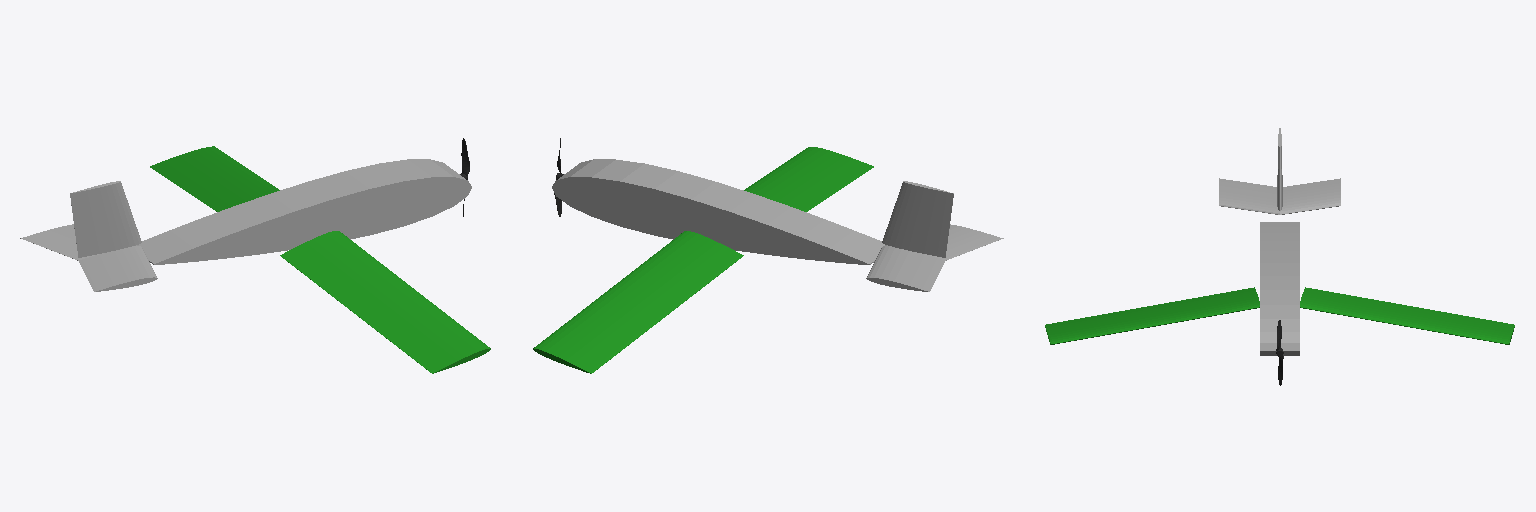
robot.urdf — drone_ea:
<robot name="drone_ea">
 <material name="grey">
  <color rgba="0.7 0.7 0.7 1" />
 </material>
 <material name="red">
  <color rgba="0.17254901960784313 0.6274509803921569 0.17254901960784313 1" />
 </material>
 <material name="black">
  <color rgba="0.2 0.2 0.2 1" />
 </material>
 <link name="root_link">
  <inertial>
   <origin rpy="0 0 0" xyz="0 0 0" />
   <mass value="0" />
   <inertia ixx="0" ixy="0" ixz="0" iyy="0" iyz="0" izz="0" />
  </inertial>
 </link>
 <joint name="fixed_joint_base_fuselage" type="fixed">
  <parent link="root_link" />
  <child link="fuselage" />
  <origin rpy="3.141592653589793 0 0" xyz="0 0 0" />
 </joint>
 <link name="fuselage">
  <inertial>
   <origin rpy="0 0 0" xyz="-0.344 0 0" />
   <mass value="0.55" />
   <inertia ixx="0.00029015955" ixy="0" ixz="0" iyy="0.0074080147" iyz="0" izz="0.0074511885" />
  </inertial>
  <visual>
   <origin rpy="0 0 0" xyz="0 0 0" />
   <geometry>
    <mesh filename="package://ros_muav/meshes/fuselage0014_tail0009.stl" scale="0.001 0.001 0.001" />
   </geometry>
   <material name="grey" />
  </visual>
 </link>
 <joint name="fixed_joint_aero_frame_fuselage" type="fixed">
  <parent link="fuselage" />
  <child link="aero_frame_fuselage" />
  <origin rpy="0 3.141592653589793 0" xyz="-0.344 0 0" />
 </joint>
 <link name="aero_frame_fuselage" />
 <joint name="fixed_joint_right_wing" type="fixed">
  <parent link="fuselage" />
  <child link="fuselage_right_0" />
  <origin rpy="-0.13962634015954636 -0.10471975511965977 3.036872898470133" xyz="-0.35 0.05 0.03" />
 </joint>
 <link name="fuselage_right_0">
  <inertial>
   <mass value="0.018" />
   <origin rpy="0 0 0" xyz="0 0 0" />
   <inertia ixx="2.1333333333333334e-06" ixy="0" ixz="0" iyy="2.1333333333333334e-06" iyz="0" izz="2.1333333333333334e-06" />
  </inertial>
 </link>
 <joint name="joint_0_twist_right_wing" type="revolute">
  <parent link="fuselage_right_0" />
  <child link="fuselage_right_1" />
  <origin rpy="0 0 0" xyz="0 0 0" />
  <axis xyz="0 1 0" />
  <limit effort="0.26" lower="-0.5235987755982988" upper="0.5235987755982988" velocity="5.393067388662478" />
  <dynamics damping="1" friction="0" />
 </joint>
 <link name="fuselage_right_1">
  <inertial>
   <mass value="0.082" />
   <origin rpy="0 0 0" xyz="0 0 0" />
   <inertia ixx="1.8041518518518523e-05" ixy="0" ixz="0" iyy="1.8041518518518523e-05" iyz="0" izz="1.8041518518518523e-05" />
  </inertial>
 </link>
 <joint name="joint_1_dihedral_right_wing" type="revolute">
  <parent link="fuselage_right_1" />
  <child link="fuselage_right_2" />
  <origin rpy="0 0 0" xyz="0 0 0" />
  <axis xyz="1 0 0" />
  <limit effort="1.7" lower="-0.5235987755982988" upper="0.5235987755982988" velocity="1.5707963267948966" />
  <dynamics damping="1" friction="0" />
 </joint>
 <link name="fuselage_right_2">
  <inertial>
   <mass value="0" />
   <origin rpy="0 0 0" xyz="0 0 0" />
   <inertia ixx="0" ixy="0" ixz="0" iyy="0" iyz="0" izz="0" />
  </inertial>
 </link>
 <joint name="joint_2_fixed_right_wing" type="fixed">
  <parent link="fuselage_right_2" />
  <child link="right_wing" />
  <origin rpy="0 0 0" xyz="0 0 0" />
  <axis xyz="0 0 0" />
 </joint>
 <link name="right_wing">
  <inertial>
   <origin rpy="0 0 0" xyz="0.025827498 -0.2625 0" />
   <mass value="0.021874659008620952" />
   <inertia ixx="0.0005026593079582453" ixy="0" ixz="0" iyy="2.7253501080910022e-05" iyz="0" izz="0.0005294613202088511" />
  </inertial>
  <visual>
   <origin rpy="0 0 0" xyz="0 0 0" />
   <geometry>
    <mesh filename="package://ros_muav/meshes/wing0009.stl" scale="0.15 0.525 0.15" />
   </geometry>
   <material name="red" />
  </visual>
 </link>
 <joint name="fixed_joint_aero_frame_right_wing" type="fixed">
  <parent link="right_wing" />
  <child link="aero_frame_right_wing" />
  <origin rpy="3.141592653589793 0 0" xyz="0.025827498 -0.2625 0" />
 </joint>
 <link name="aero_frame_right_wing" />
 <joint name="fixed_joint_left_wing" type="fixed">
  <parent link="fuselage" />
  <child link="fuselage_left_0" />
  <origin rpy="0.13962634015954636 3.246312408709453 0.10471975511965977" xyz="-0.35 -0.05 0.03" />
 </joint>
 <link name="fuselage_left_0">
  <inertial>
   <mass value="0.018" />
   <origin rpy="0 0 0" xyz="0 0 0" />
   <inertia ixx="2.1333333333333334e-06" ixy="0" ixz="0" iyy="2.1333333333333334e-06" iyz="0" izz="2.1333333333333334e-06" />
  </inertial>
 </link>
 <joint name="joint_0_twist_left_wing" type="revolute">
  <parent link="fuselage_left_0" />
  <child link="fuselage_left_1" />
  <origin rpy="0 0 0" xyz="0 0 0" />
  <axis xyz="0 -1 0" />
  <limit effort="0.26" lower="-0.5235987755982988" upper="0.5235987755982988" velocity="5.393067388662478" />
  <dynamics damping="1" friction="0" />
 </joint>
 <link name="fuselage_left_1">
  <inertial>
   <mass value="0.082" />
   <origin rpy="0 0 0" xyz="0 0 0" />
   <inertia ixx="1.8041518518518523e-05" ixy="0" ixz="0" iyy="1.8041518518518523e-05" iyz="0" izz="1.8041518518518523e-05" />
  </inertial>
 </link>
 <joint name="joint_1_dihedral_left_wing" type="revolute">
  <parent link="fuselage_left_1" />
  <child link="fuselage_left_2" />
  <origin rpy="0 0 0" xyz="0 0 0" />
  <axis xyz="-1 0 0" />
  <limit effort="1.7" lower="-0.5235987755982988" upper="0.5235987755982988" velocity="1.5707963267948966" />
  <dynamics damping="1" friction="0" />
 </joint>
 <link name="fuselage_left_2">
  <inertial>
   <mass value="0" />
   <origin rpy="0 0 0" xyz="0 0 0" />
   <inertia ixx="0" ixy="0" ixz="0" iyy="0" iyz="0" izz="0" />
  </inertial>
 </link>
 <joint name="joint_2_fixed_left_wing" type="fixed">
  <parent link="fuselage_left_2" />
  <child link="left_wing" />
  <origin rpy="0 0 0" xyz="0 0 0" />
  <axis xyz="0 0 0" />
 </joint>
 <link name="left_wing">
  <inertial>
   <origin rpy="0 0 0" xyz="0.025827498 -0.2625 0" />
   <mass value="0.021874659008620952" />
   <inertia ixx="0.0005026593079582453" ixy="0" ixz="0" iyy="2.7253501080910022e-05" iyz="0" izz="0.0005294613202088511" />
  </inertial>
  <visual>
   <origin rpy="0 0 0" xyz="0 0 0" />
   <geometry>
    <mesh filename="package://ros_muav/meshes/wing0009.stl" scale="0.15 0.525 0.15" />
   </geometry>
   <material name="red" />
  </visual>
 </link>
 <joint name="fixed_joint_aero_frame_left_wing" type="fixed">
  <parent link="left_wing" />
  <child link="aero_frame_left_wing" />
  <origin rpy="0 0 0" xyz="0.025827498 -0.2625 0" />
 </joint>
 <link name="aero_frame_left_wing" />
 <joint name="fixed_joint_collision_0" type="fixed">
  <parent link="fuselage" />
  <child link="collision_frame_0" />
  <origin rpy="0 0 0" xyz="0 0 0" />
 </joint>
 <link name="collision_frame_0" />
 <joint name="fixed_joint_collision_1" type="fixed">
  <parent link="fuselage" />
  <child link="collision_frame_1" />
  <origin rpy="0 0 0" xyz="-0.75 0 0" />
 </joint>
 <link name="collision_frame_1" />
 <joint name="fixed_joint_collision_2" type="fixed">
  <parent link="right_wing" />
  <child link="collision_frame_2" />
  <origin rpy="0 0 0" xyz="0.11249999999999999 -0.525 0" />
 </joint>
 <link name="collision_frame_2" />
 <joint name="fixed_joint_collision_3" type="fixed">
  <parent link="right_wing" />
  <child link="collision_frame_3" />
  <origin rpy="0 0 0" xyz="-0.0375 -0.525 0" />
 </joint>
 <link name="collision_frame_3" />
 <joint name="fixed_joint_collision_4" type="fixed">
  <parent link="left_wing" />
  <child link="collision_frame_4" />
  <origin rpy="0 0 0" xyz="0.11249999999999999 -0.525 0" />
 </joint>
 <link name="collision_frame_4" />
 <joint name="fixed_joint_collision_5" type="fixed">
  <parent link="left_wing" />
  <child link="collision_frame_5" />
  <origin rpy="0 0 0" xyz="-0.0375 -0.525 0" />
 </joint>
 <link name="collision_frame_5" />
 <joint name="fixed_joint_prop_frame_fuselage_0" type="fixed">
  <parent link="fuselage" />
  <child link="prop_frame_fuselage_0" />
  <origin rpy="3.141592653589793 -1.5707963267948966 0" xyz="0 0 0" />
 </joint>
 <link name="prop_frame_fuselage_0">
  <inertial>
   <mass value="0.03859" />
   <origin rpy="0 0 0" xyz="0 0 0" />
   <inertia ixx="3.7625e-05" ixy="0" ixz="0" iyy="3.7625e-05" iyz="0" izz="7.5e-05" />
  </inertial>
  <visual>
   <origin rpy="0 0 0" xyz="0 0 0" />
   <geometry>
    <mesh filename="package://ros_muav/meshes/propeller.stl" scale="0.001 0.001 0.001" />
   </geometry>
   <material name="black" />
  </visual>
 </link>
</robot>

--- Facts derived from the render (not from the file) ---
Views: 3 orthographic renders of the robot side by side, from view 1: azimuth 30°, elevation 25°; view 2: azimuth 150°, elevation 25°; view 3: azimuth 270°, elevation 25°.
Model drone_ea with 20 links and 19 joints (4 revolute, 15 fixed), rooted at root_link, posed every joint at zero.
Links seen in each view (by area): view 1: fuselage, right_wing, left_wing; view 2: fuselage, left_wing, right_wing; view 3: fuselage, right_wing, left_wing.
Link boxes in pixels (bbox=[...]): fuselage: bbox=[20, 159, 471, 291]; right_wing: bbox=[280, 231, 490, 373]; left_wing: bbox=[150, 146, 279, 211]; fuselage: bbox=[552, 159, 1003, 291]; left_wing: bbox=[533, 231, 743, 373]; right_wing: bbox=[744, 147, 873, 211]; fuselage: bbox=[1219, 128, 1340, 355]; right_wing: bbox=[1045, 287, 1259, 344]; left_wing: bbox=[1300, 287, 1514, 344].
Bounding box of the posed robot: 0.9695 × 1.16 × 0.2946 m (x, y, z).
4 mesh visuals loaded from 3 distinct referenced files (3 binary STL).
